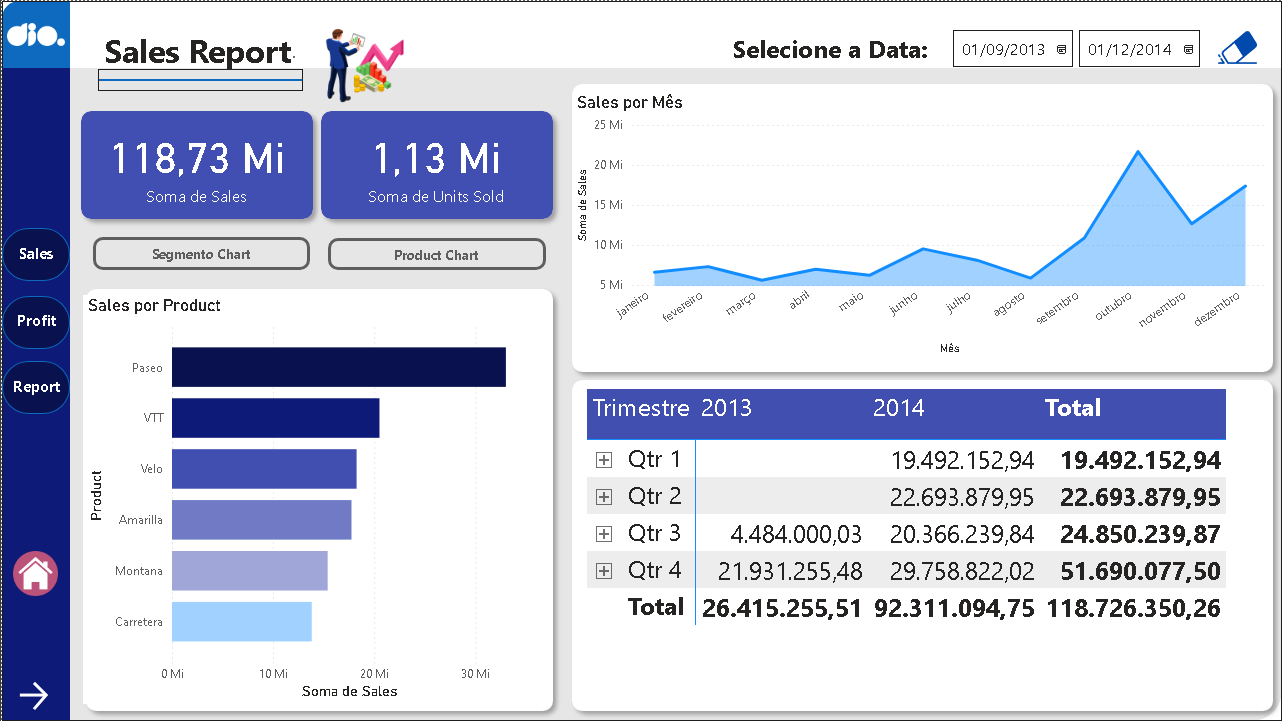

The page's visual inventory and layout, read from the dashboard file:
{"tool":"powerbi","page":{"name":"Sales","canvas":[1280,720],"ordinal":0},"visuals":[{"type":"group","id":"g1","title":"layout","box":[0,0,1280,720],"z":0},{"type":"slicer","fields":{"Values":["financials.Date"]},"box":[937.8,19.1,271.1,54.4],"z":0,"group":"g5"},{"type":"shape","box":[70.4,101.5,249.8,126],"z":0,"group":"g2"},{"type":"textbox","box":[97.5,21.1,204.3,59.9],"z":1000},{"type":"image","title":"Clean - icon","box":[1208.9,22.4,53.3,48.9],"z":1000,"group":"g5"},{"type":"shape","box":[310.2,101.5,249.8,126],"z":1000,"group":"g2"},{"type":"shape","box":[44.4,17.8,1235.6,702.2],"z":2000,"group":"g1"},{"type":"textbox","box":[720,25.8,217.8,42.2],"z":2000,"group":"g5"},{"type":"group","id":"g2","title":"Cartões","box":[70.4,101.5,489.6,126],"z":2000},{"type":"actionButton","box":[1208.9,22.4,60,51.1],"z":3000,"group":"g5"},{"type":"group","id":"g3","title":"Sales por Segment","box":[75,236.4,485.5,483.3],"z":3000},{"type":"shape","box":[67.8,0,1212.2,66.7],"z":4000,"group":"g1"},{"type":"group","id":"g4","title":"Sales por mes","box":[560.9,73.6,719.1,306.4],"z":4000},{"type":"shape","box":[0,45.5,68.2,674.5],"z":4250,"group":"g1"},{"type":"shape","box":[0,0,67.8,66.7],"z":4500,"group":"g1"},{"type":"shape","box":[96,68,205,22],"z":4750,"group":"g1"},{"type":"image","title":"logo DIO","box":[0,0,67.8,66.7],"z":5000,"group":"g1"},{"type":"group","id":"g5","title":"Filtro por data","box":[720,19.1,549.1,54.5],"z":5000},{"type":"card","fields":{"Values":["Sum(financials.Sales)"]},"box":[85.5,114.3,218.9,99.1],"z":6000,"group":"g2"},{"type":"actionButton","title":"Botão - seta dir","box":[12.2,675.6,42.2,38.9],"z":6000},{"type":"shape","title":"Forma1","box":[560.9,73.6,719.1,306.4],"z":6250,"group":"g4"},{"type":"areaChart","title":"Sales por Mês","fields":{"Category":["financials.Date.Variation.Hierarquia de datas.Mês"],"Y":["Sum(financials.Sales)"]},"box":[570.2,90.4,699.9,267.1],"z":6500,"group":"g4"},{"type":"image","box":[301.8,0,143.3,129.2],"z":7000},{"type":"shape","title":"Forma1","box":[561,370,719,349],"z":8000,"group":"g9"},{"type":"shape","title":"Forma2.1","box":[75,279.7,485.5,440],"z":8250,"group":"g3"},{"type":"clusteredBarChart","title":"Sales por Product","fields":{"Category":["financials.Product"],"Y":["Sum(financials.Sales)"]},"box":[81.4,294.6,462.7,409.1],"z":8625,"group":"g3"},{"type":"actionButton","title":"Botão - pie","box":[326.4,237.3,217.3,31.8],"z":8875,"group":"g3"},{"type":"card","fields":{"Values":["Sum(financials.Units Sold)"]},"box":[324.8,114.3,218.9,99.1],"z":9000,"group":"g2"},{"type":"pivotTable","fields":{"Rows":["financials.Date.Variation.Hierarquia de datas.Trimestre","financials.Date.Variation.Hierarquia de datas.Mês"],"Columns":["financials.Date.Variation.Hierarquia de datas.Ano"],"Values":["Sum(financials.Sales)"]},"box":[580,383,682,321],"z":9000,"group":"g9"},{"type":"actionButton","title":"Botão - bar","box":[91,236.4,217.3,32.7],"z":9125,"group":"g3"},{"type":"image","box":[0,545,68,55],"z":10000},{"type":"shape","box":[0,295,68,53],"z":11000,"group":"g7"},{"type":"group","id":"g6","title":"Grupo 1","box":[0,224,70,58],"z":12000},{"type":"shape","box":[0,360,68,53],"z":12000,"group":"g8"},{"type":"group","id":"g7","title":"Grupo 2","box":[0,295,70,58],"z":13000},{"type":"textbox","box":[0,370,70,35],"z":13000,"group":"g8"},{"type":"textbox","box":[0,304,70,35],"z":14000,"group":"g7"},{"type":"group","id":"g8","title":"Grupo 3","box":[0,357,70,58],"z":14000},{"type":"group","id":"g9","title":"Grupo 4","box":[561,370,719,349],"z":14001},{"type":"actionButton","box":[0,295,68,58],"z":14500,"group":"g7"},{"type":"shape","box":[0,227,68,53],"z":15000,"group":"g6"},{"type":"textbox","title":"texto - profit","box":[0,237,70,35],"z":16000,"group":"g6"},{"type":"actionButton","box":[1,357,68,58],"z":16004,"group":"g8"},{"type":"actionButton","box":[0,224,68,58],"z":16500,"group":"g6"}]}

Visuals, with their boxes on the page's 1280x720 design canvas (x1, y1, x2, y2). These are canvas units, not pixel positions in the 1282x721 screenshot, which may show the page scaled, cropped or inside an application window:
"layout" group: l=0, t=0, r=1280, b=720
slicer - financials.Date: l=938, t=19, r=1209, b=74
shape: l=70, t=102, r=320, b=228
textbox: l=98, t=21, r=302, b=81
"Clean - icon" image: l=1209, t=22, r=1262, b=71
shape: l=310, t=102, r=560, b=228
shape: l=44, t=18, r=1280, b=720
textbox: l=720, t=26, r=938, b=68
"Cartões" group: l=70, t=102, r=560, b=228
actionButton: l=1209, t=22, r=1269, b=74
"Sales por Segment" group: l=75, t=236, r=560, b=720
shape: l=68, t=0, r=1280, b=67
"Sales por mes" group: l=561, t=74, r=1280, b=380
shape: l=0, t=46, r=68, b=720
shape: l=0, t=0, r=68, b=67
shape: l=96, t=68, r=301, b=90
"logo DIO" image: l=0, t=0, r=68, b=67
"Filtro por data" group: l=720, t=19, r=1269, b=74
card - Sum(financials.Sales): l=86, t=114, r=304, b=213
"Botão - seta dir" actionButton: l=12, t=676, r=54, b=714
"Forma1" shape: l=561, t=74, r=1280, b=380
"Sales por Mês" areaChart: l=570, t=90, r=1270, b=358
image: l=302, t=0, r=445, b=129
"Forma1" shape: l=561, t=370, r=1280, b=719
"Forma2.1" shape: l=75, t=280, r=560, b=720
"Sales por Product" clusteredBarChart: l=81, t=295, r=544, b=704
"Botão - pie" actionButton: l=326, t=237, r=544, b=269
card - Sum(financials.Units Sold): l=325, t=114, r=544, b=213
pivotTable - financials.Date.Variation.Hierarquia de datas.Trimestre x financials.Date.Variation.Hierarquia de datas.Mês: l=580, t=383, r=1262, b=704
"Botão - bar" actionButton: l=91, t=236, r=308, b=269
image: l=0, t=545, r=68, b=600
shape: l=0, t=295, r=68, b=348
"Grupo 1" group: l=0, t=224, r=70, b=282
shape: l=0, t=360, r=68, b=413
"Grupo 2" group: l=0, t=295, r=70, b=353
textbox: l=0, t=370, r=70, b=405
textbox: l=0, t=304, r=70, b=339
"Grupo 3" group: l=0, t=357, r=70, b=415
"Grupo 4" group: l=561, t=370, r=1280, b=719
actionButton: l=0, t=295, r=68, b=353
shape: l=0, t=227, r=68, b=280
"texto - profit" textbox: l=0, t=237, r=70, b=272
actionButton: l=1, t=357, r=69, b=415
actionButton: l=0, t=224, r=68, b=282
